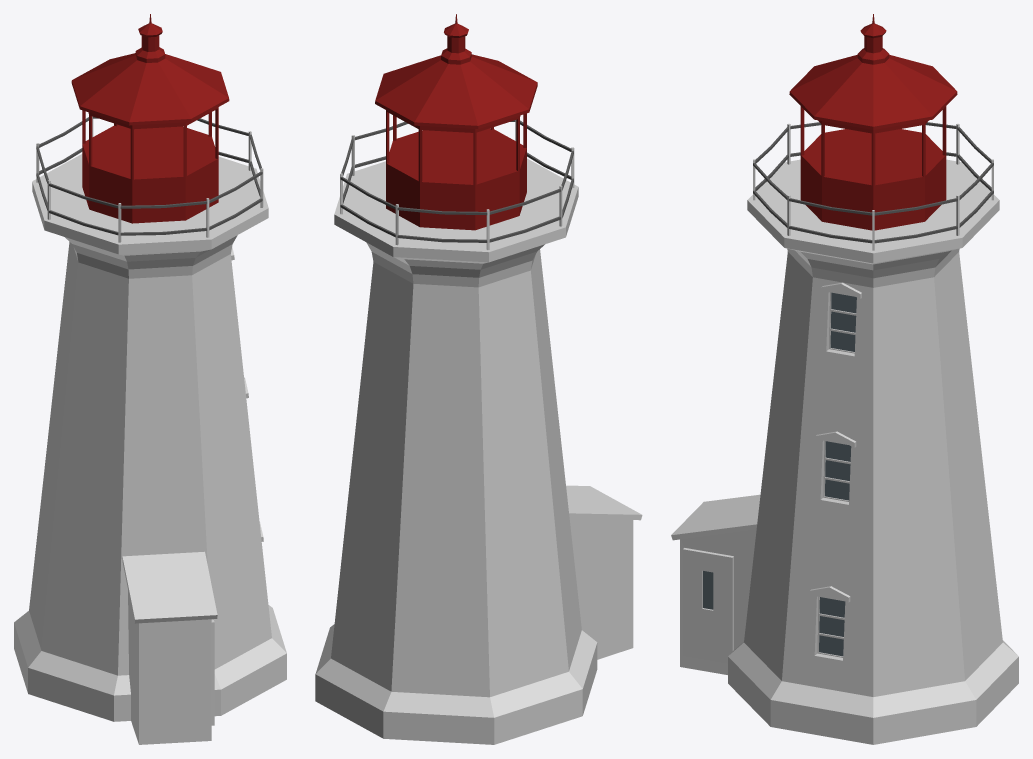
The model's file is lighthouse.gltf.
The picture shows the model from 3 angles, left to right: view 1: azimuth 30°, elevation 25°; view 2: azimuth 150°, elevation 25°; view 3: azimuth 270°, elevation 25°; orthographic projection. The views are drawn at different scales.
Parts seen in each view (by area): view 1: lighthouse, Cube, railings; view 2: lighthouse, Cube, railings; view 3: lighthouse, Cube, railings, Plane.
Boxes of the visible parts, bbox=[...] form: lighthouse: bbox=[14, 14, 286, 721]; Cube: bbox=[122, 551, 217, 744]; railings: bbox=[36, 116, 263, 242]; lighthouse: bbox=[315, 14, 597, 744]; Cube: bbox=[566, 485, 642, 659]; railings: bbox=[340, 120, 574, 250]; lighthouse: bbox=[728, 14, 1018, 744]; Cube: bbox=[671, 494, 760, 674]; railings: bbox=[753, 122, 993, 250]; Plane: bbox=[809, 282, 861, 602].
Bounding box in the file's own units: 6.18 × 15.68 × 7.39.
